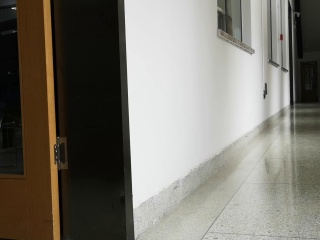room: (1, 1, 138, 240)
